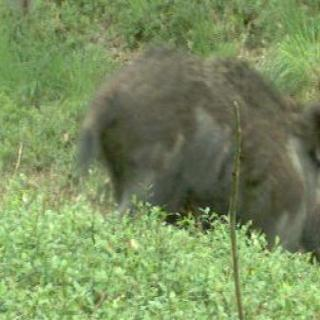Pig: (79, 14, 320, 320)
